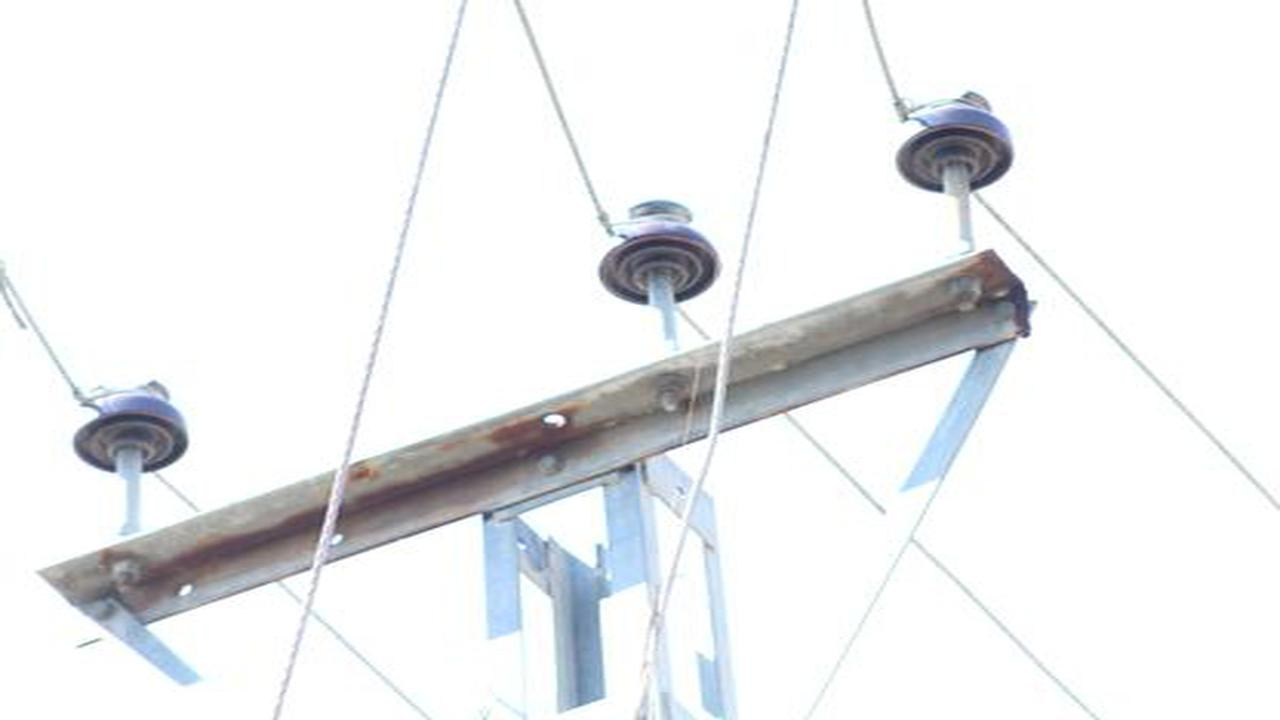insulator_pin: (888, 85, 1018, 202), (591, 195, 724, 307), (71, 375, 192, 478)
